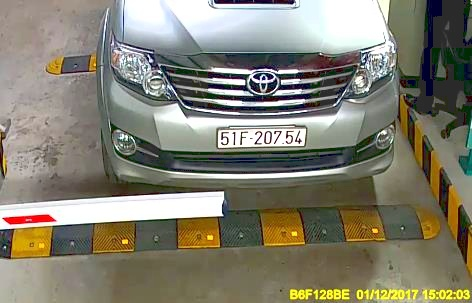plate: (218, 123, 309, 154)
